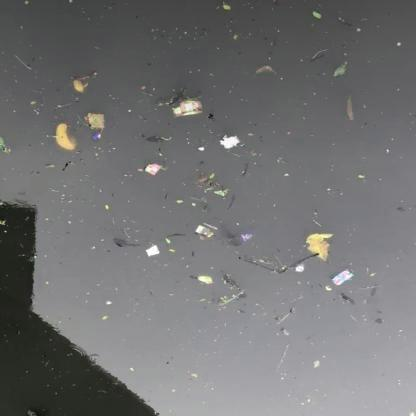Metal: (330, 266, 356, 288)
Trash: (170, 98, 204, 122), (85, 108, 107, 132), (219, 132, 242, 151), (141, 242, 163, 260), (141, 159, 162, 177)
